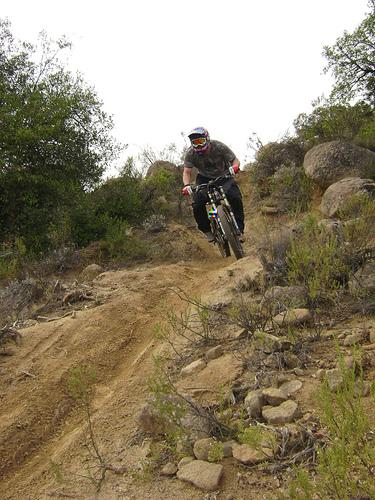car: (181, 166, 245, 261)
person: (183, 127, 247, 244)
